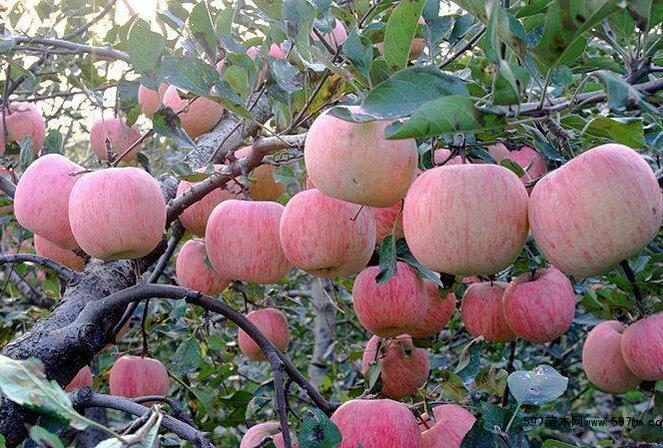apple: (528, 142, 663, 277), (402, 165, 529, 277), (302, 102, 419, 208), (68, 164, 167, 264), (282, 185, 375, 275), (201, 197, 290, 288), (351, 260, 429, 336), (498, 266, 576, 342), (580, 316, 653, 394), (460, 279, 520, 343), (172, 237, 231, 298), (619, 312, 663, 382)
